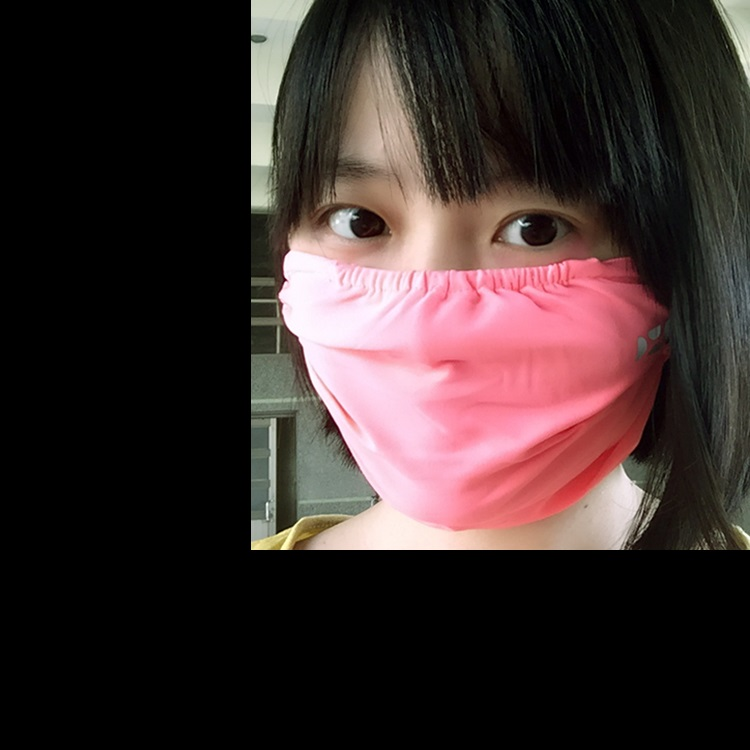face_mask: (277, 49, 650, 499)
